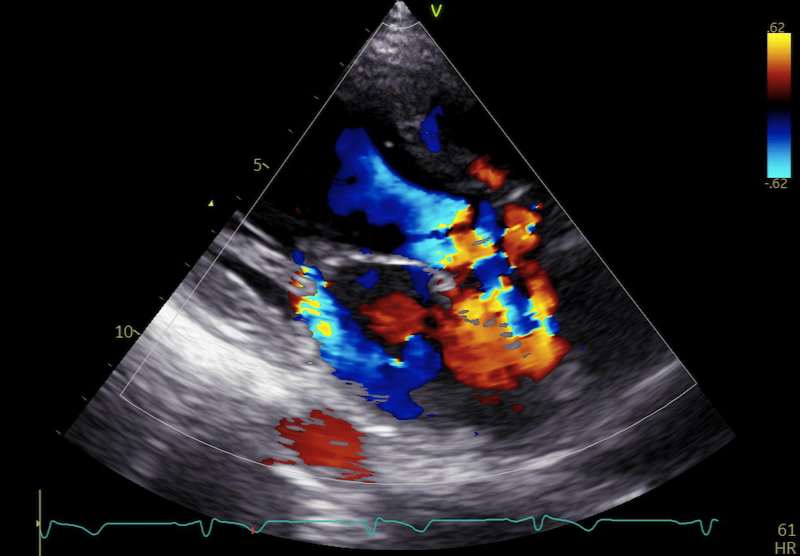MR: (296, 239, 345, 366)
